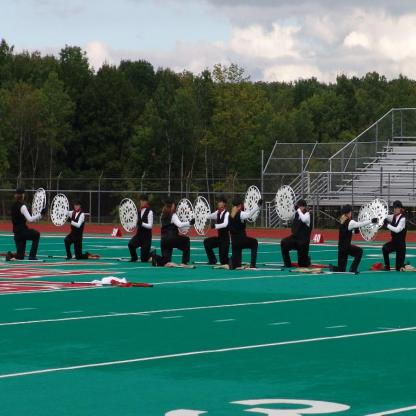face: (141, 198, 147, 207), (219, 200, 225, 209), (395, 207, 401, 216), (75, 201, 80, 211), (348, 210, 353, 218), (301, 206, 306, 213), (172, 202, 175, 209)
